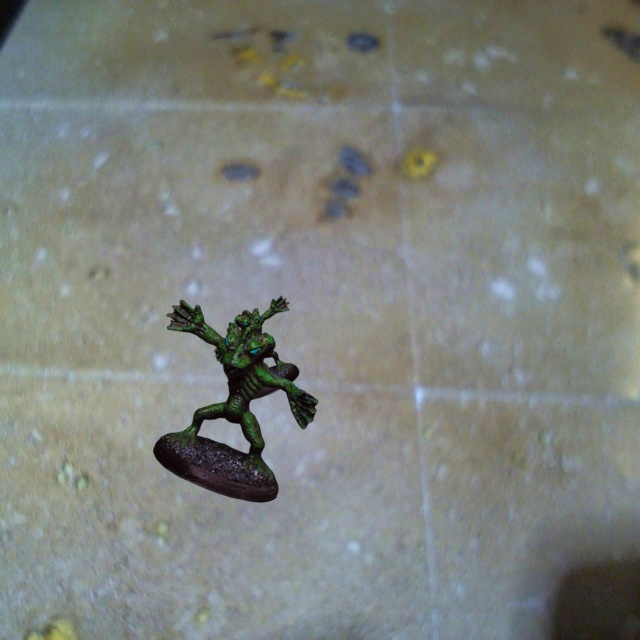pieza_juego: (153, 300, 318, 502), (214, 296, 299, 400)
